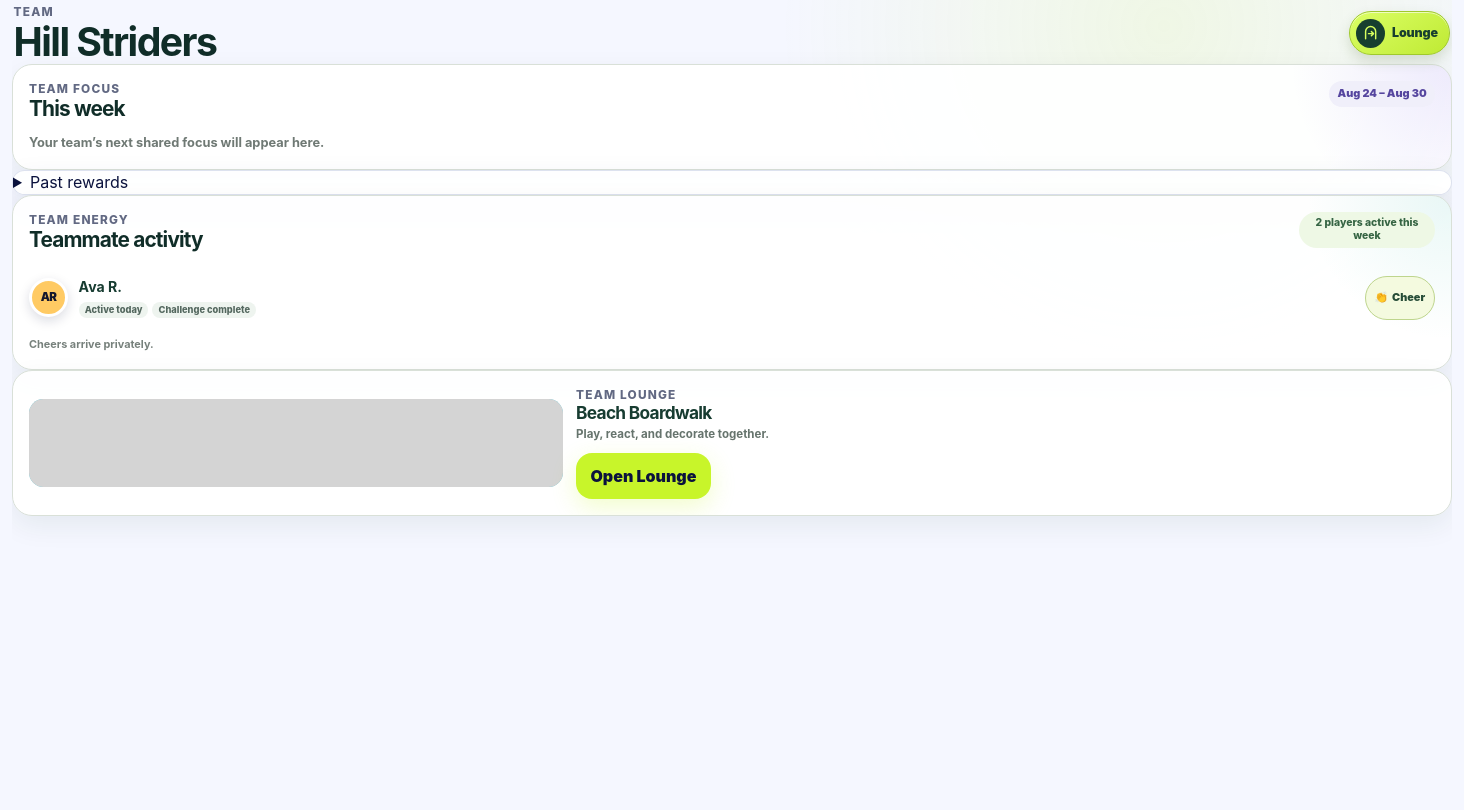
it: TeamHub › uses the actual team week and keeps ended rewards out of current focus
This screenshot has width=1464, height=810.
Expected: the text "Aug 24 – Aug 30" is shown, [1329,81,1435,107]
Expected: the text "Team celebration" is not shown
Click the heading "Past rewards".
click(79, 182)  # box [30,172,128,192]
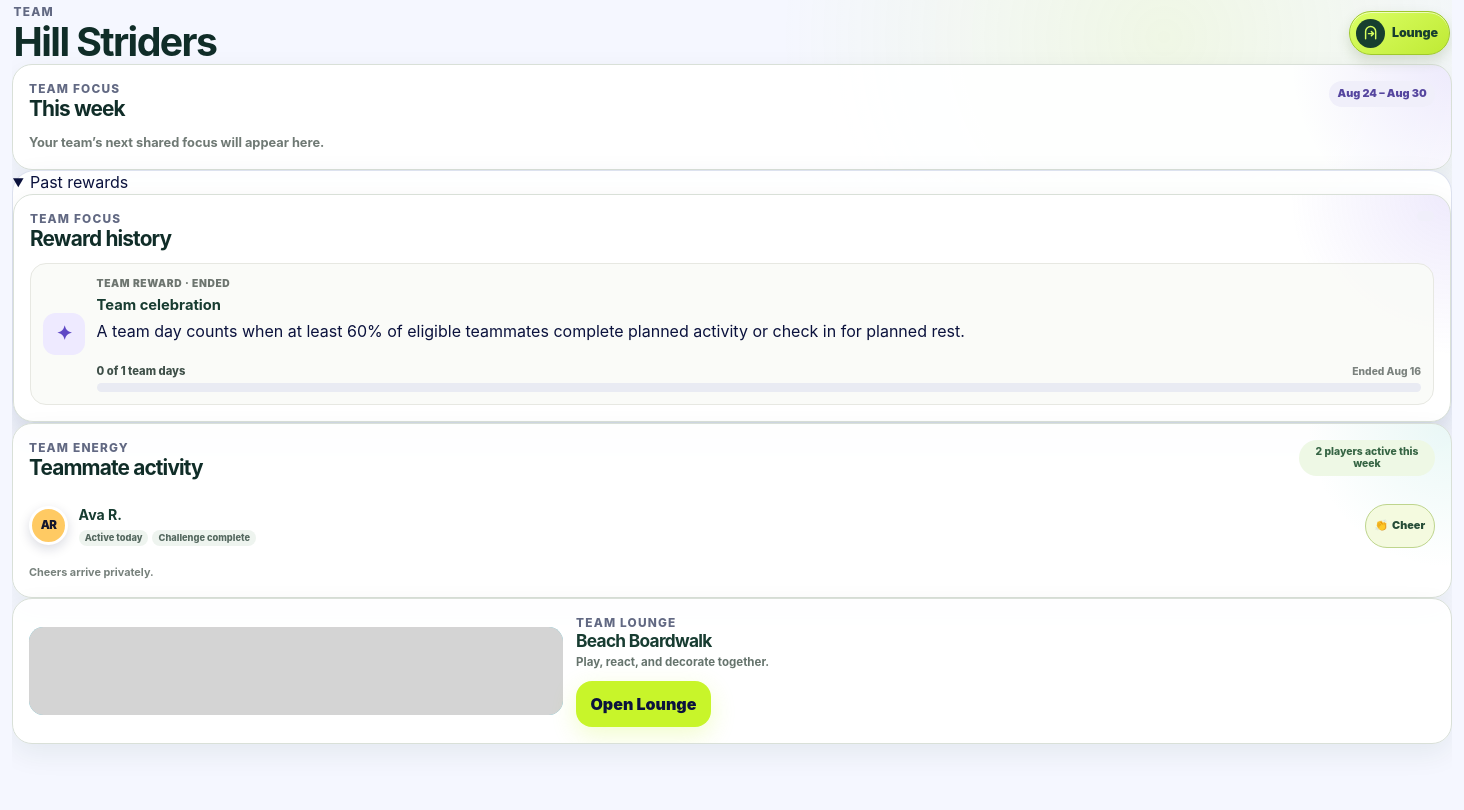
Now the text "Ended Aug 16" is shown, box [1352,364,1421,379]
Now the text "at least 60%" is shown, box [97,321,965,341]
